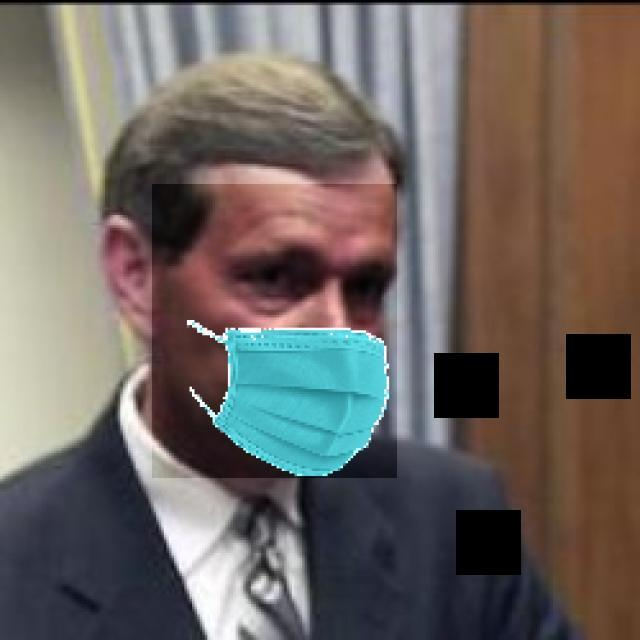surgical: (152, 184, 397, 478)
